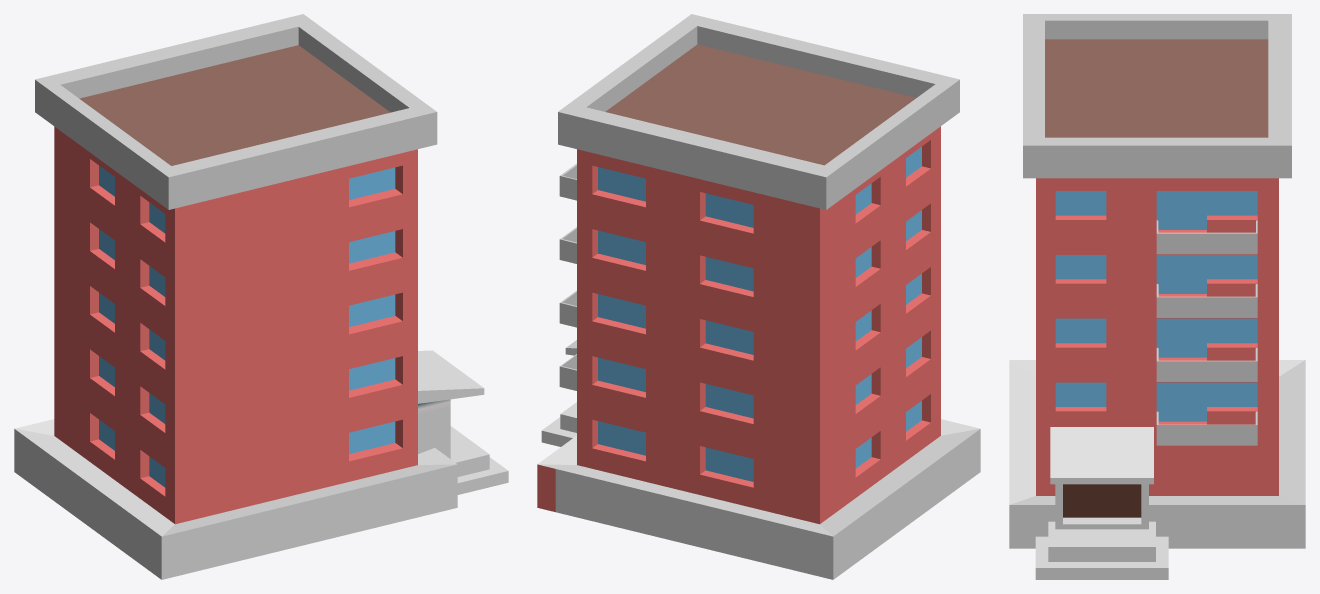
The model's file is house_2_world_ap_0_lev1.glb.
3 renders of one model, left to right at view 1: azimuth 30°, elevation 25°; view 2: azimuth 150°, elevation 25°; view 3: azimuth 270°, elevation 25°, orthographic.
Parts seen in each view (by area): view 1: house_2_world_ap_0_lev1; view 2: house_2_world_ap_0_lev1; view 3: house_2_world_ap_0_lev1.
Boxes of the visible parts, box(x1,y1,x2,y2) form: house_2_world_ap_0_lev1: box(14, 14, 508, 579); house_2_world_ap_0_lev1: box(537, 14, 980, 579); house_2_world_ap_0_lev1: box(1009, 14, 1305, 579).
Size of the model in its own units: 4.8 by 5.03 by 3.41.
Materials: 1 (1 with a texture image).
